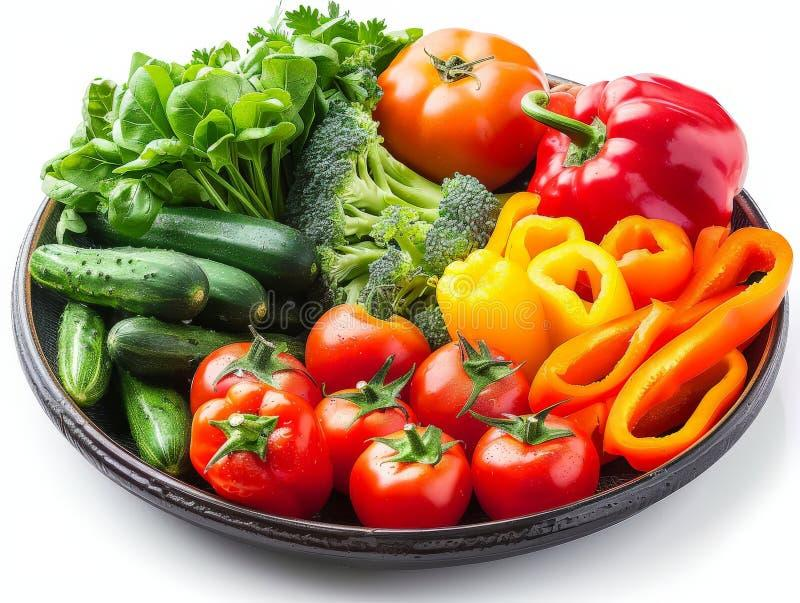bell pepper: (467, 212, 774, 416), (538, 69, 740, 228)
brocolli: (333, 119, 477, 297)
tomato: (196, 324, 612, 506), (390, 9, 533, 164)
